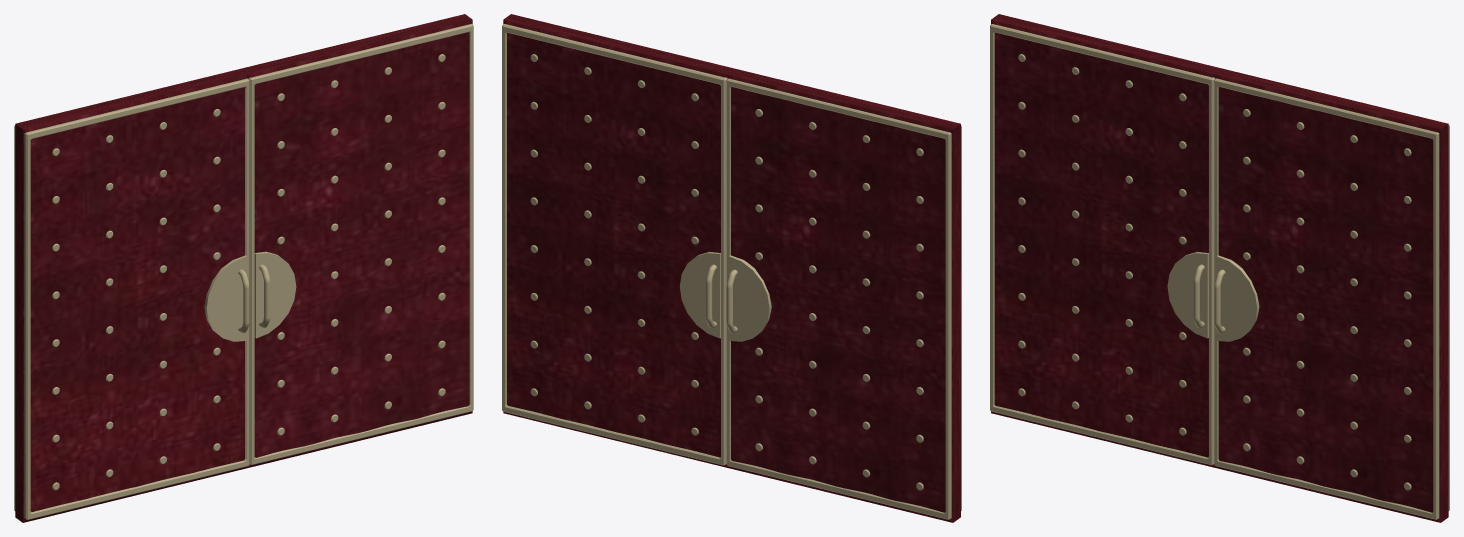
The model's file is Doors.fbx.
The picture shows the model from 3 angles, left to right: view 1: azimuth 30°, elevation 25°; view 2: azimuth 150°, elevation 25°; view 3: azimuth 330°, elevation 25°; orthographic projection.
Parts seen in each view (by area): view 1: pCylinder116, pCylinder281; view 2: pCylinder116, pCylinder281; view 3: pCylinder281, pCylinder116.
Boxes of the visible parts, x1,y1,x2,y2 form: pCylinder116: (14,69,249,522); pCylinder281: (240,14,473,467); pCylinder116: (726,69,961,522); pCylinder281: (502,14,735,467); pCylinder281: (1214,69,1449,522); pCylinder116: (990,14,1223,467).
Size of the model in its own units: 0.5661 by 0.4734 by 0.063.
